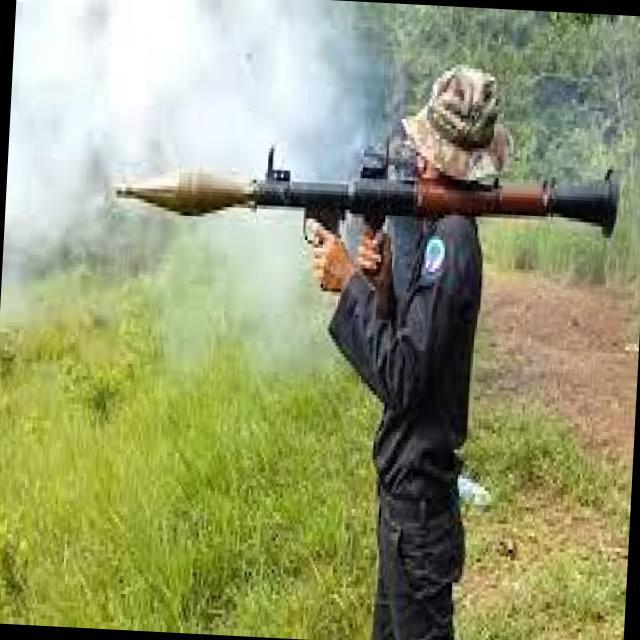rocket: (111, 142, 620, 236)
